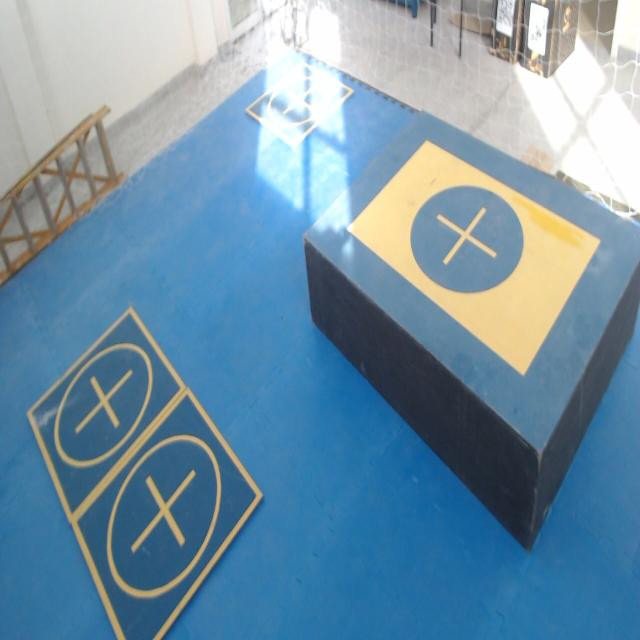base_inicio: (346, 137, 602, 376)
base_pouso: (69, 386, 262, 639), (26, 305, 185, 523), (245, 61, 355, 151)
